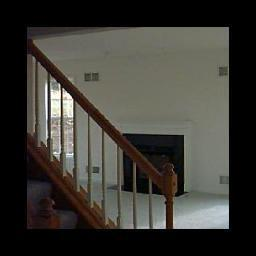Escaleras: (31, 53, 175, 226)
